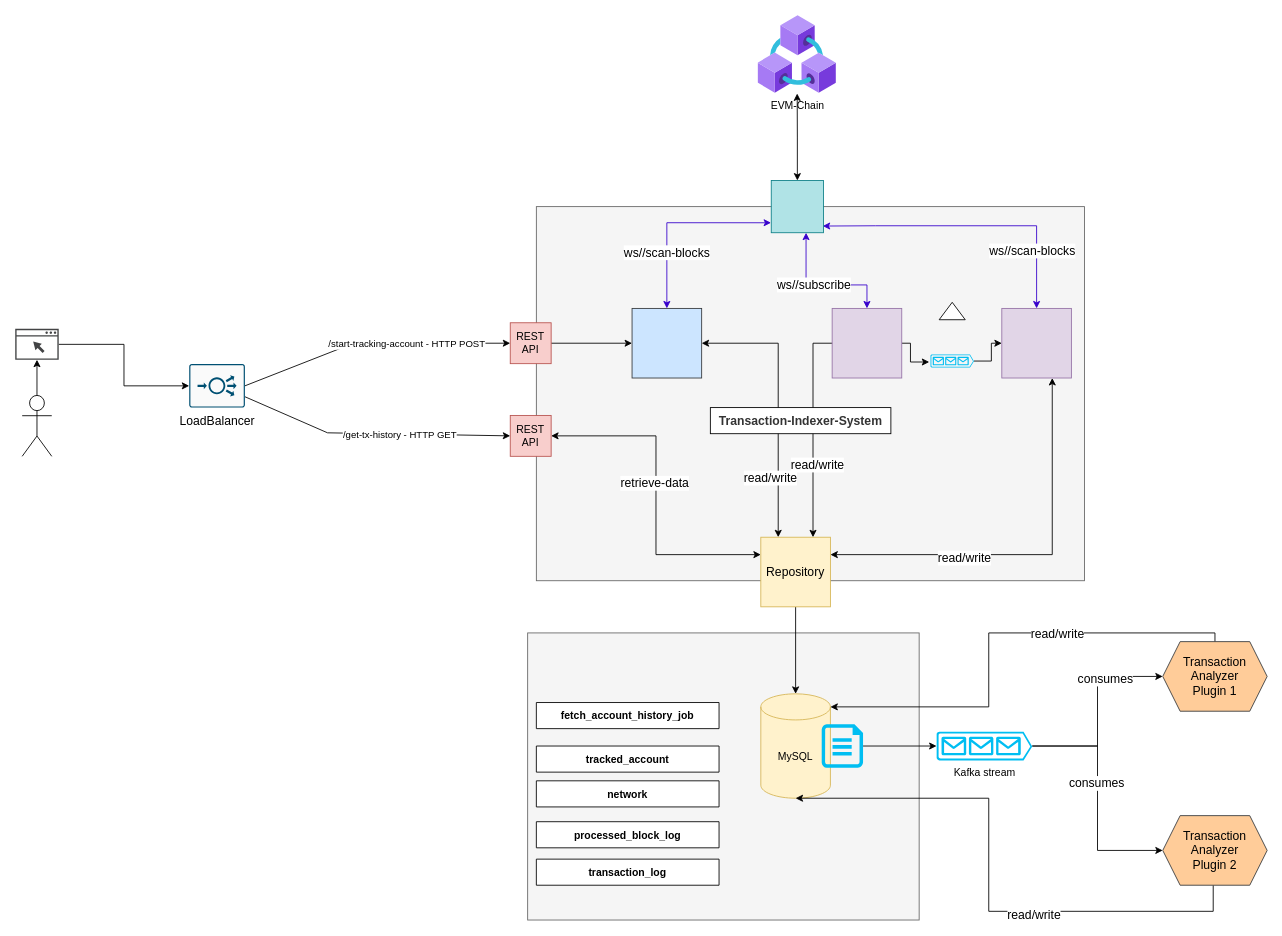
Image size: 1282x936. Some labels were removed from this diagram. The centre of each missing label's shape, as x and y in pixels:
"Account History Fetcher Service" goes at pixel 666 343.
"Actor" goes at pixel 36 425.
"CDC" goes at pixel 842 745.
"EVM gateway" goes at pixel 796 206.
"Out-of-Sync Backfiller Service" goes at pixel 1036 343.
"out-of-sync Detected" goes at pixel 951 310.
"Realtime Block Listener" goes at pixel 866 343.
